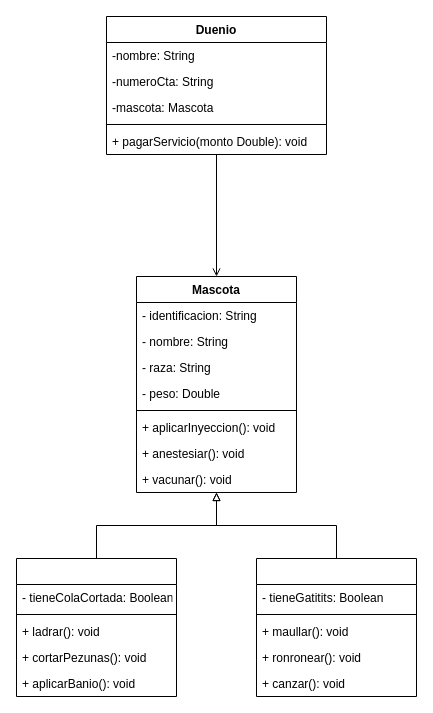
Some shapes in this 433 by 713 pixel diagram are drawn without their labels. Each missing label, with the box of its shape:
Gato: (256, 558, 416, 696)
Perro: (16, 558, 176, 696)
